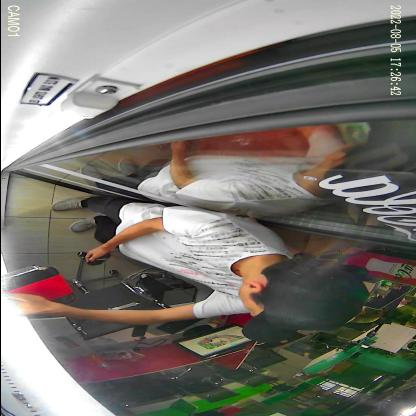red: (1, 265, 76, 305)
